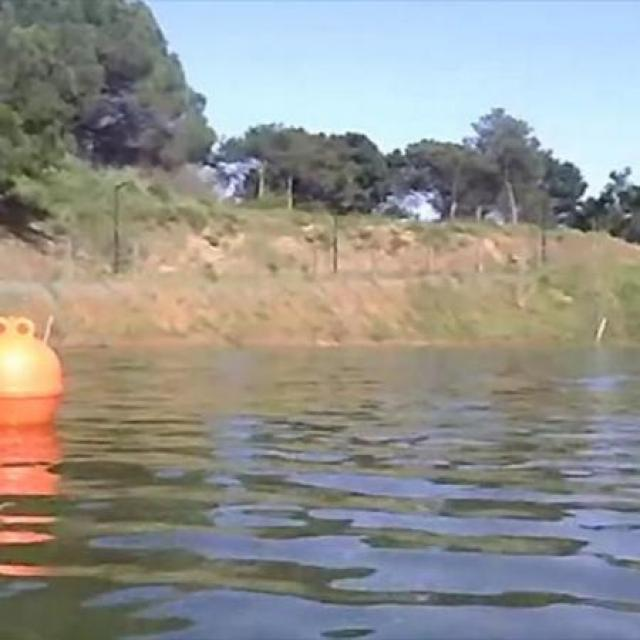buoy: (0, 313, 65, 426)
